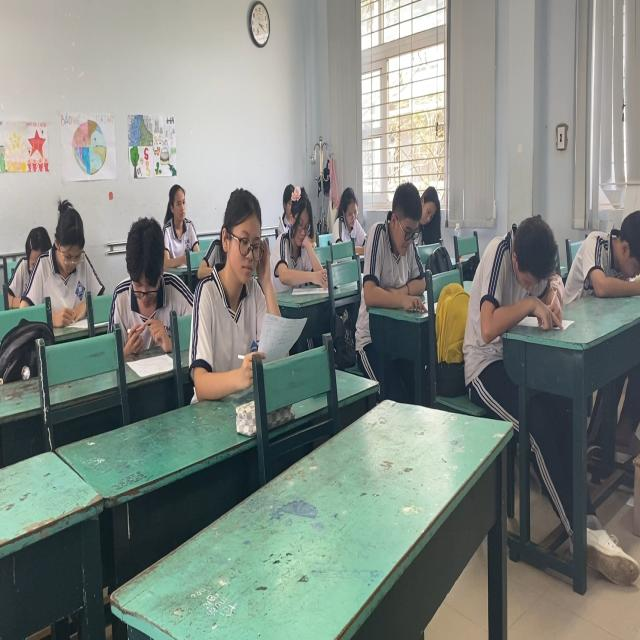not_cheating: (198, 184, 285, 352), (474, 216, 576, 326), (109, 214, 189, 346), (23, 200, 92, 320), (364, 181, 426, 294), (269, 181, 331, 280), (157, 184, 202, 251), (332, 178, 368, 241), (417, 179, 442, 237)
